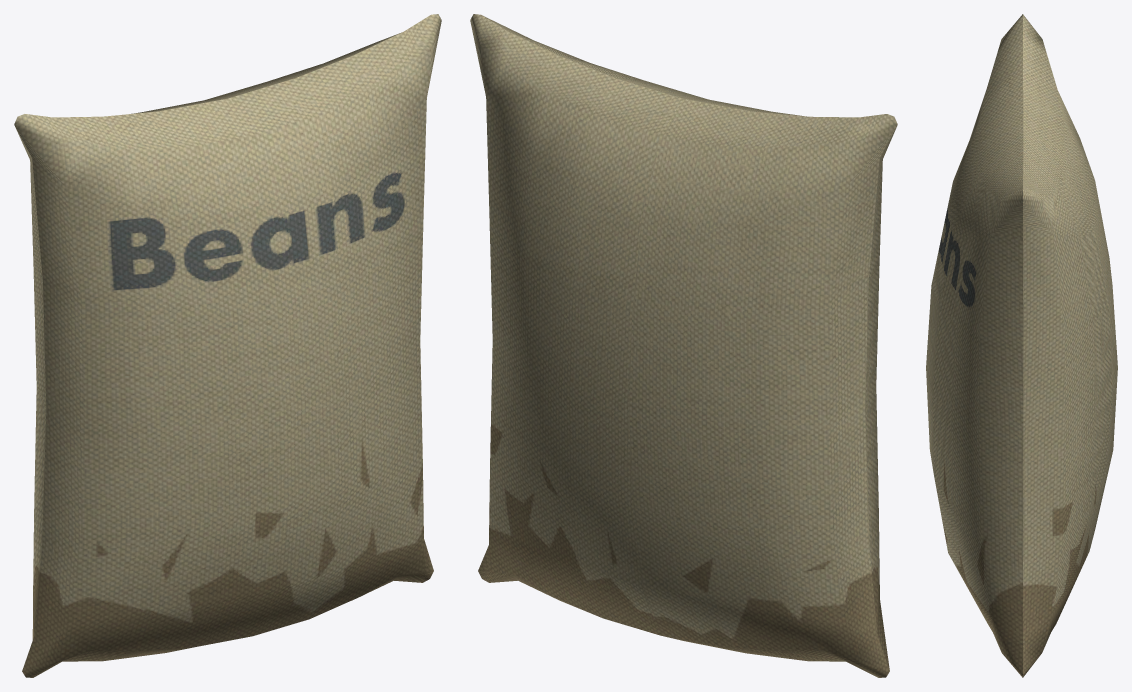
The model's file is bean bag.glb.
3 renders of one model, left to right at view 1: azimuth 30°, elevation 25°; view 2: azimuth 150°, elevation 25°; view 3: azimuth 270°, elevation 25°, orthographic. The views are drawn at different scales.
Parts seen in each view (by area): view 1: Quest_Pirate_FlourSack; view 2: Quest_Pirate_FlourSack; view 3: Quest_Pirate_FlourSack.
Part boxes in pixels (<box>): Quest_Pirate_FlourSack: <box>14,14,441,677</box>; Quest_Pirate_FlourSack: <box>470,14,897,677</box>; Quest_Pirate_FlourSack: <box>926,14,1117,677</box>.
Bounding box in the file's own units: 0.8583 × 1.11 × 0.384.
Materials: 1 (1 with a texture image).
